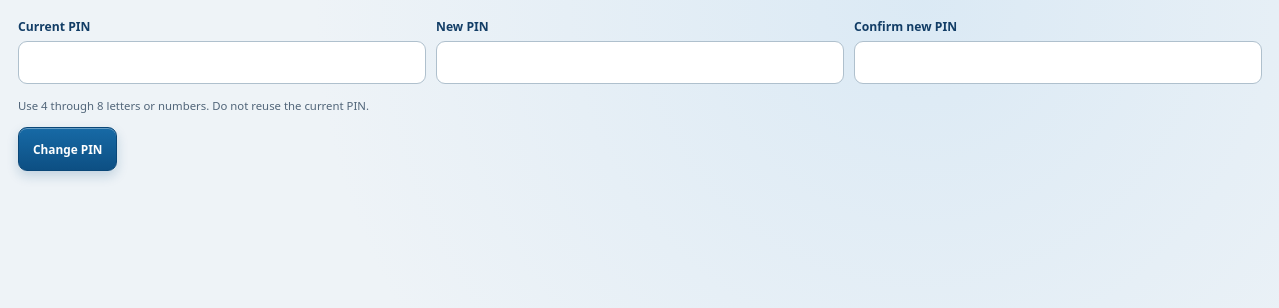
Test: Change PIN form › keeps values visible after a retryable failure
In the password field labelled "Current PIN": (222,62) [18,41,426,84], type "1234"
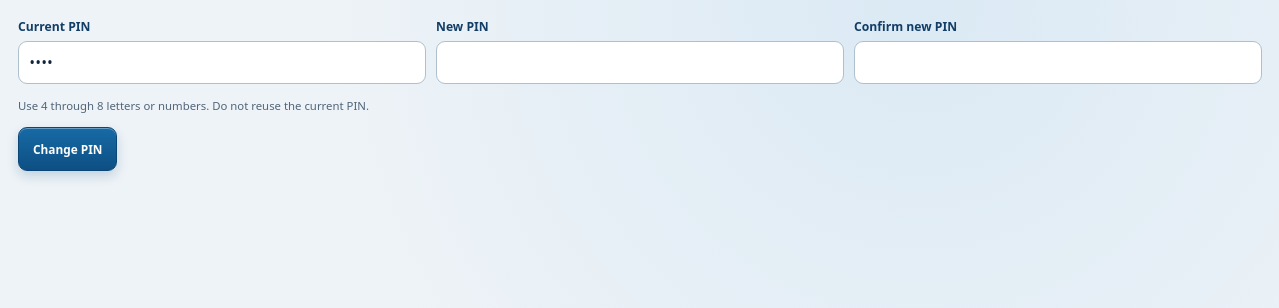
In the password field labelled "New PIN": (640,62) [436,41,844,84], type "5678"
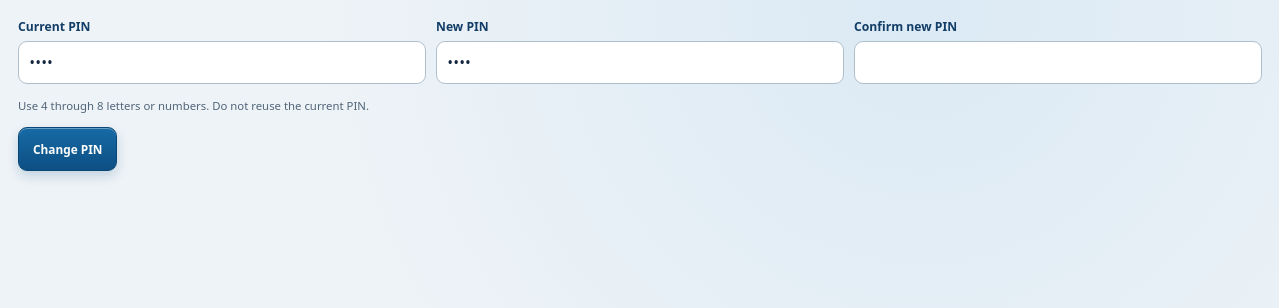
In the password field labelled "Confirm new PIN": (1058,62) [854,41,1262,84], type "5678"
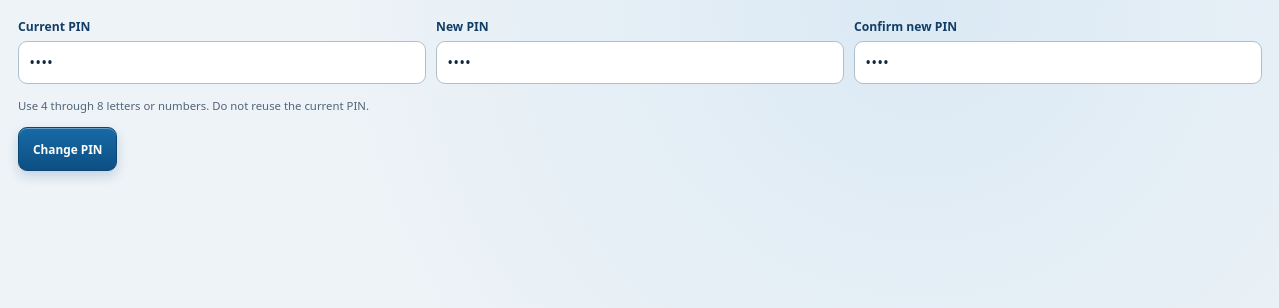
Click the button "Change PIN": (68,149) [18,127,117,171]
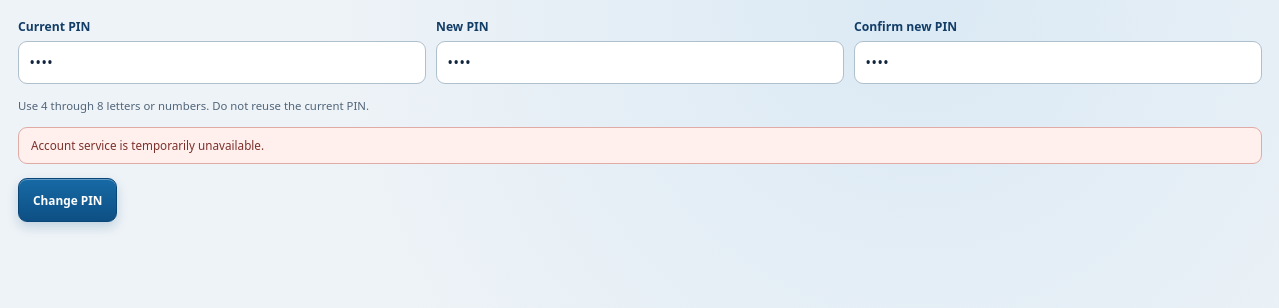
Check: the message shows "temporarily unavailable", box [31,138,264,153]
